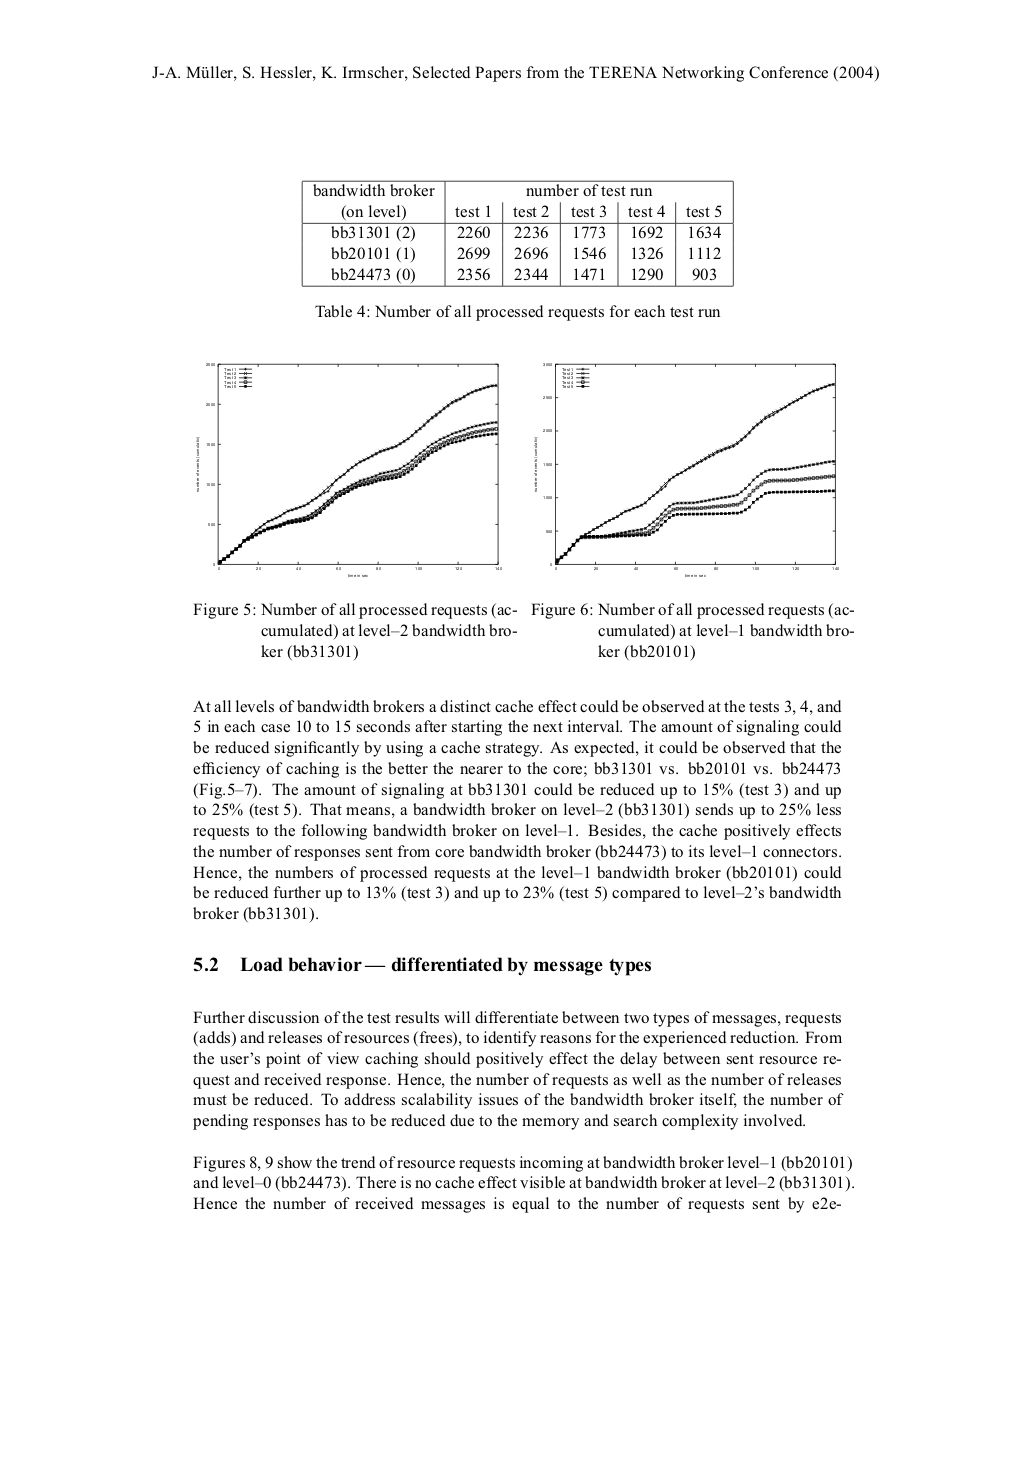Table: (302, 179, 733, 287)
figure: (195, 363, 501, 576), (534, 363, 838, 576)
